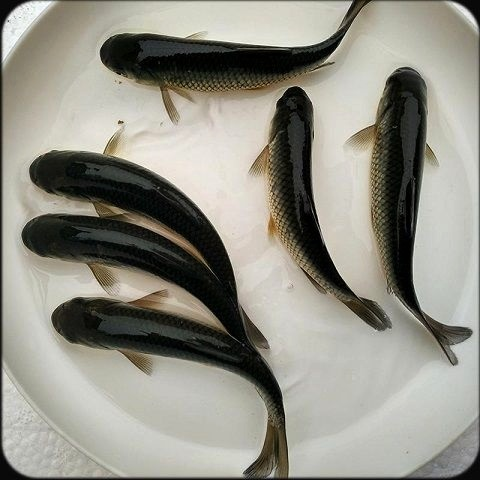fry: (41, 287, 305, 404), (379, 54, 465, 343), (244, 90, 355, 299), (89, 21, 330, 91), (16, 206, 180, 282), (24, 137, 177, 214)
